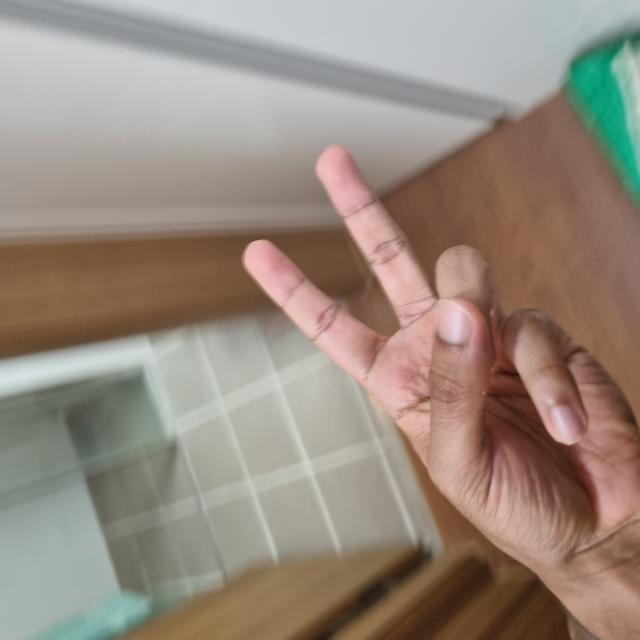Scissors: (5, 247, 548, 639)
